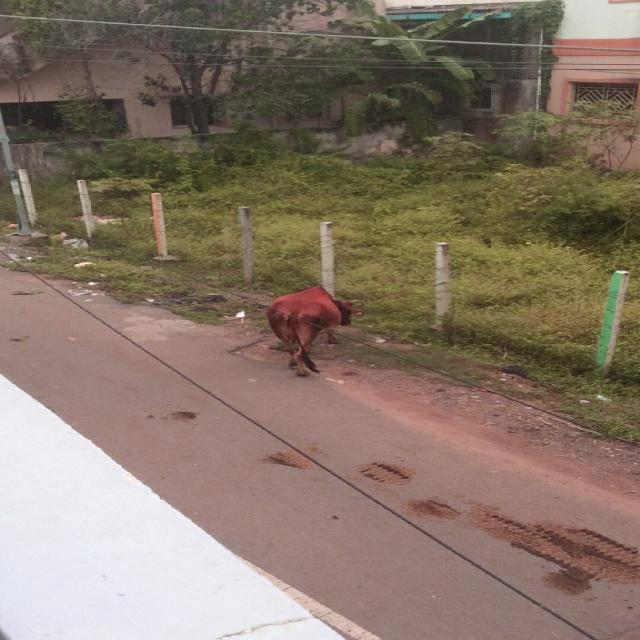cow: (268, 286, 351, 376)
